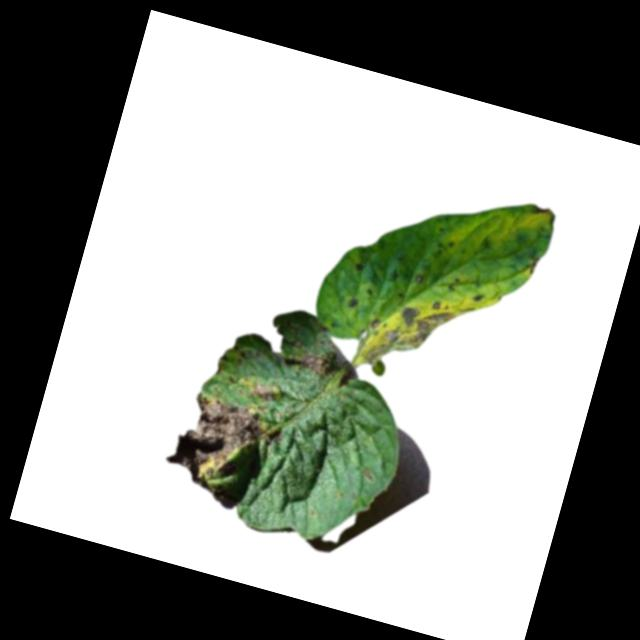Early_blight: (158, 387, 286, 509), (352, 283, 460, 390), (298, 345, 343, 383), (527, 201, 560, 228), (248, 377, 280, 404), (354, 255, 367, 271)
